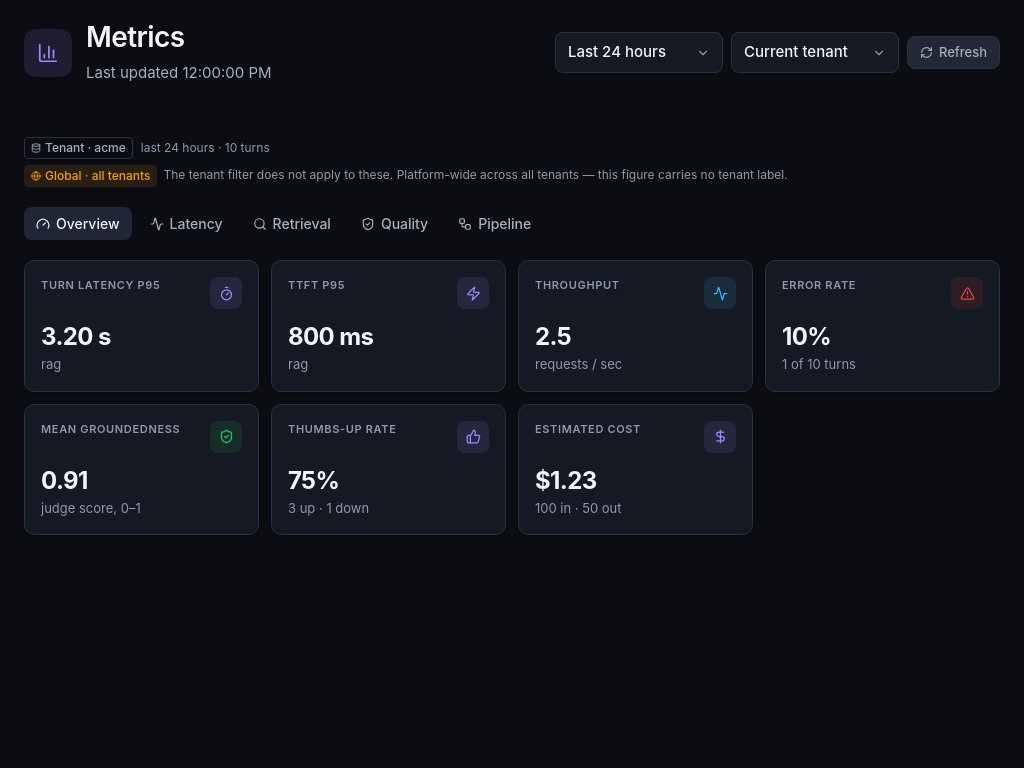
Test: MetricsTab › switches sections from the sub-nav
This screenshot has width=1024, height=768.
Click the button "Latency": (186, 224) x1=138 y1=207 x2=234 y2=240
(page scrolled)
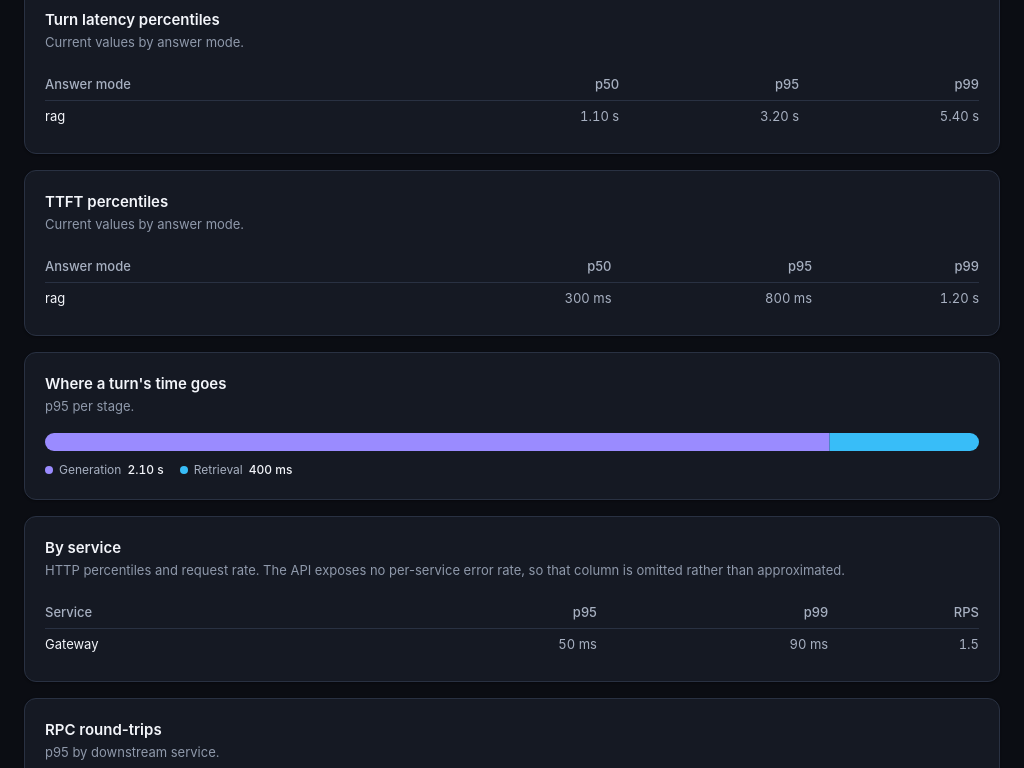
Now the heading "Where a turn's time goes" is shown, box x1=45 y1=373 x2=226 y2=395
